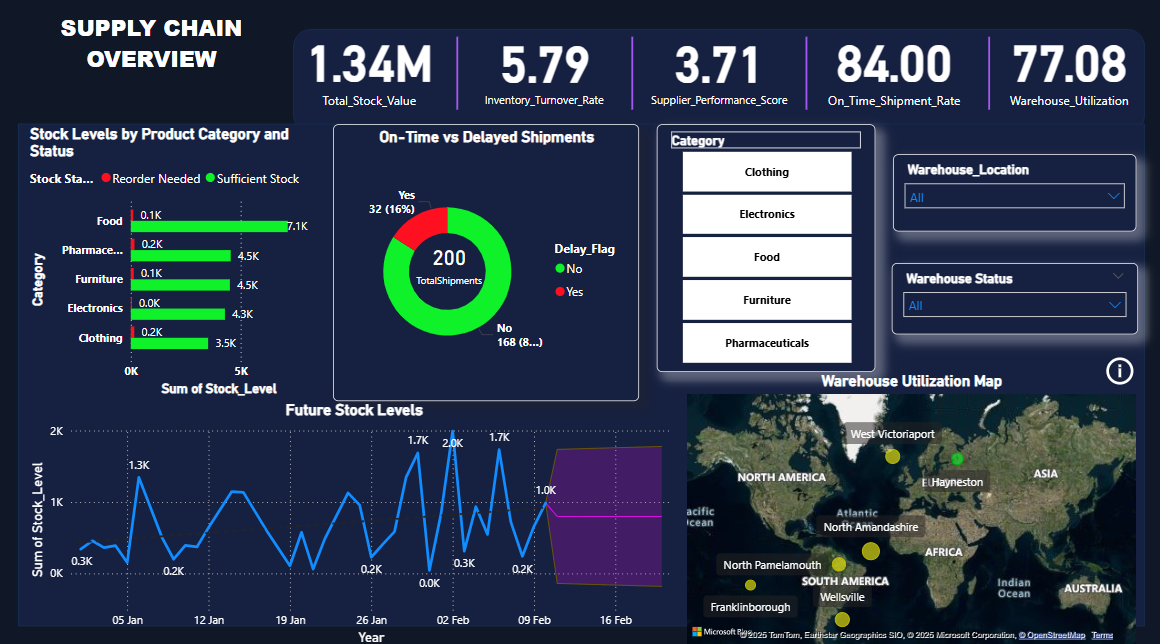

What the dashboard file says about the page in this screenshot:
{"tool":"powerbi","page":{"name":"Supply Chain Overview","canvas":[1280,720],"ordinal":0},"visuals":[{"type":"card","fields":{"Values":["inventory_logs.Total_Stock_Value"]},"box":[320,0,176,160],"z":0},{"type":"card","fields":{"Values":["inventory_logs.Inventory_Turnover_Rate"]},"box":[512,0,176,160],"z":1000},{"type":"card","fields":{"Values":["supplier_data.Supplier_Performance_Score"]},"box":[704,0,176,160],"z":2000},{"type":"card","fields":{"Values":["shipping_data.On_Time_Shipment_Rate"]},"box":[896,0,176,160],"z":3000},{"type":"card","fields":{"Values":["warehouse_data.Warehouse_Utilization"]},"box":[1088,0,176,160],"z":4000},{"type":"clusteredBarChart","title":"Stock Levels by Product Category and Status","fields":{"Y":["Sum(inventory_logs.Stock_Level)"],"Category":["inventory_logs.Category"],"Series":["inventory_logs.Stock Status"]},"box":[30.2,144.1,322.5,303.3],"z":5000},{"type":"donutChart","title":"On-Time vs Delayed Shipments","fields":{"Category":["shipping_data.Delay_Flag"],"Y":["CountNonNull(shipping_data.Shipment_ID)"]},"box":[368,144,336,304],"z":6000},{"type":"map","title":"Warehouse Utilization Map","fields":{"Size":["Sum(warehouse_data.Storage_Capacity)"],"Y":["Avg(warehouse_data.Latitude)"],"X":["Avg(warehouse_data.Longitude)"],"Category":["warehouse_data.Warehouse_Location"]},"box":[752,415.8,502.2,304.6],"z":7000},{"type":"lineChart","title":"Future Stock Levels","fields":{"Y":["Sum(inventory_logs.Stock_Level)"],"Category":["inventory_logs.Date.Variation.Date Hierarchy.Year","inventory_logs.Date.Variation.Date Hierarchy.Quarter","inventory_logs.Date.Variation.Date Hierarchy.Month","inventory_logs.Date.Variation.Date Hierarchy.Day"]},"box":[30.2,447.3,721.8,273.1],"z":8000},{"type":"textbox","box":[16,16,304,96],"z":9000},{"type":"slicer","fields":{"Values":["inventory_logs.Category"]},"box":[723.2,144.1,240.1,271.7],"z":10000},{"type":"slicer","fields":{"Values":["warehouse_data.Warehouse_Location"]},"box":[982.5,177,267.6,85.1],"z":11000},{"type":"shape","box":[336,48,336,80],"z":12000},{"type":"shape","box":[528,48,336,80],"z":13000},{"type":"shape","box":[736,48,304,80],"z":14000},{"type":"shape","box":[944,48,288,80],"z":15000},{"type":"card","fields":{"Values":["shipping_data.TotalShipments"]},"box":[443.2,262.1,104.3,68.6],"z":16000},{"type":"actionButton","box":[1211.7,391.1,39.8,48],"z":17000},{"type":"slicer","fields":{"Values":["warehouse_data.Warehouse Status"]},"box":[981.1,296.4,270.3,78.2],"z":18000}]}

Visuals, with their boxes in screenshot pixels (x1, y1, x2, y2), scaled from the page's 1280x720 canvas onto the 1160x644 screenshot:
card - inventory_logs.Total_Stock_Value: {"x1": 290, "y1": 0, "x2": 450, "y2": 143}
card - inventory_logs.Inventory_Turnover_Rate: {"x1": 464, "y1": 0, "x2": 624, "y2": 143}
card - supplier_data.Supplier_Performance_Score: {"x1": 638, "y1": 0, "x2": 798, "y2": 143}
card - shipping_data.On_Time_Shipment_Rate: {"x1": 812, "y1": 0, "x2": 972, "y2": 143}
card - warehouse_data.Warehouse_Utilization: {"x1": 986, "y1": 0, "x2": 1146, "y2": 143}
"Stock Levels by Product Category and Status" clusteredBarChart: {"x1": 27, "y1": 129, "x2": 320, "y2": 400}
"On-Time vs Delayed Shipments" donutChart: {"x1": 334, "y1": 129, "x2": 638, "y2": 401}
"Warehouse Utilization Map" map: {"x1": 682, "y1": 372, "x2": 1137, "y2": 643}
"Future Stock Levels" lineChart: {"x1": 27, "y1": 400, "x2": 682, "y2": 643}
textbox: {"x1": 14, "y1": 14, "x2": 290, "y2": 100}
slicer - inventory_logs.Category: {"x1": 655, "y1": 129, "x2": 873, "y2": 372}
slicer - warehouse_data.Warehouse_Location: {"x1": 890, "y1": 158, "x2": 1133, "y2": 234}
shape: {"x1": 304, "y1": 43, "x2": 609, "y2": 114}
shape: {"x1": 478, "y1": 43, "x2": 783, "y2": 114}
shape: {"x1": 667, "y1": 43, "x2": 942, "y2": 114}
shape: {"x1": 856, "y1": 43, "x2": 1116, "y2": 114}
card - shipping_data.TotalShipments: {"x1": 402, "y1": 234, "x2": 496, "y2": 296}
actionButton: {"x1": 1098, "y1": 350, "x2": 1134, "y2": 393}
slicer - warehouse_data.Warehouse Status: {"x1": 889, "y1": 265, "x2": 1134, "y2": 335}
